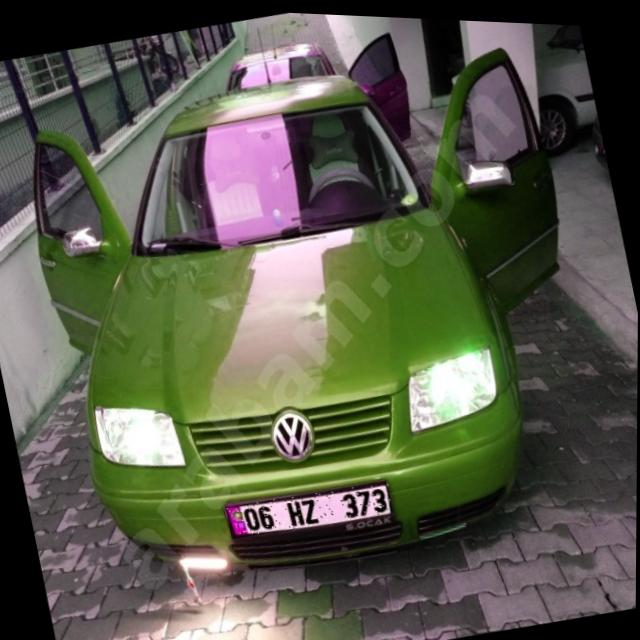license_plate: (226, 470, 393, 542)
